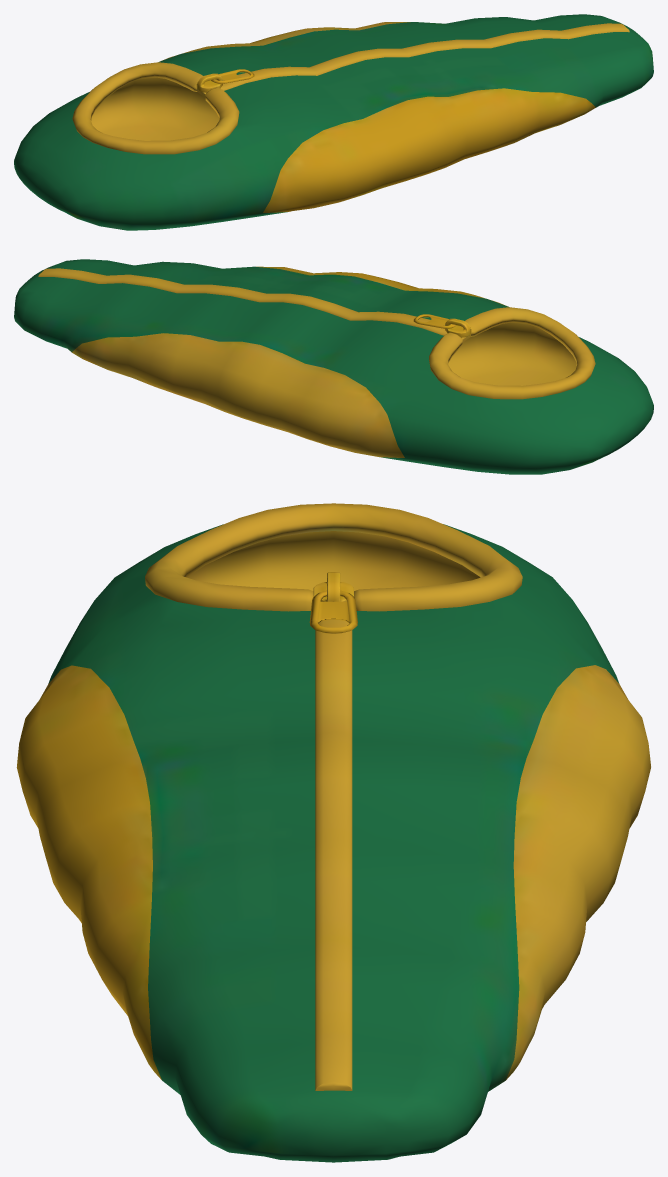
3 views of the same model, one above another, from view 1: azimuth 30°, elevation 25°; view 2: azimuth 150°, elevation 25°; view 3: azimuth 270°, elevation 25° (orthographic). The views are drawn at different scales.
Size of the model in its own units: 18.84 by 2.7 by 8.57.
Materials: 1 (1 with a texture image).
